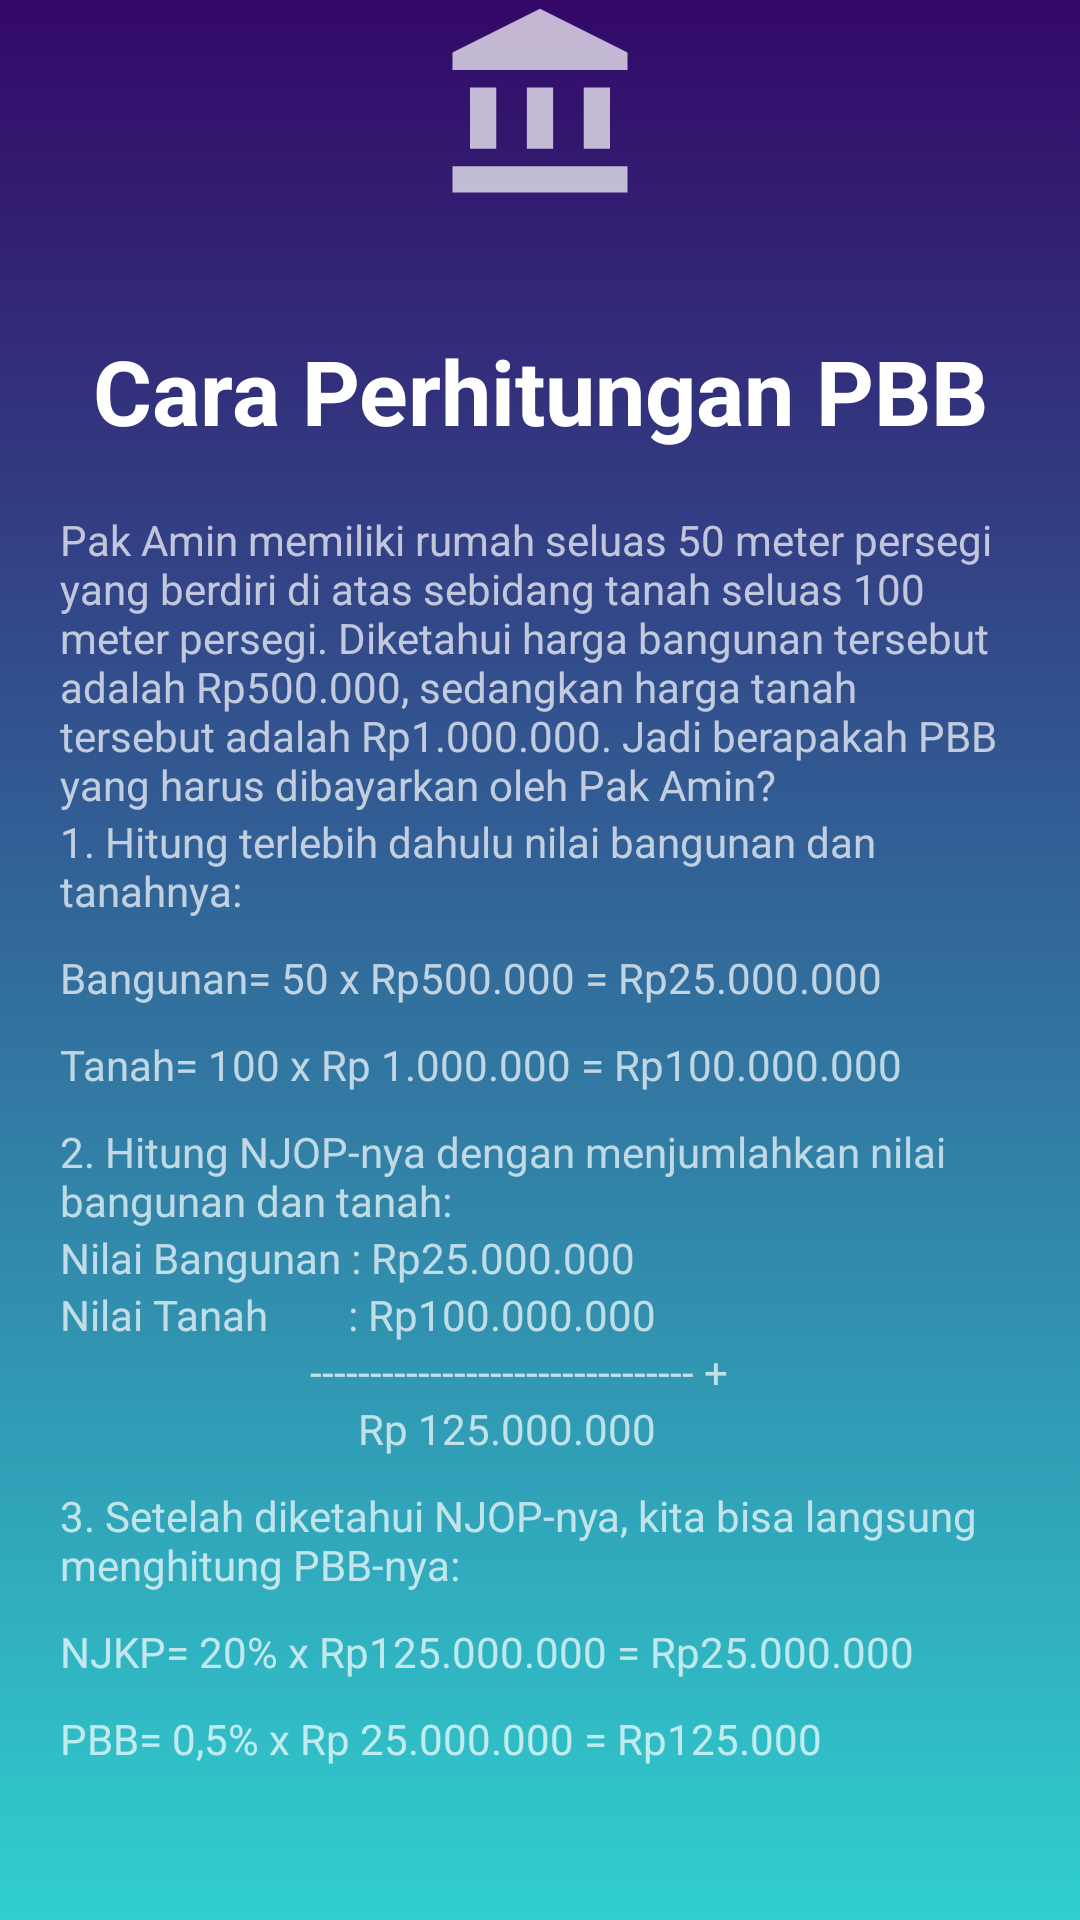

Icon click points for this 1080w x 1920h phone screenshot, format [x,y]:
account balance: [540,101]
